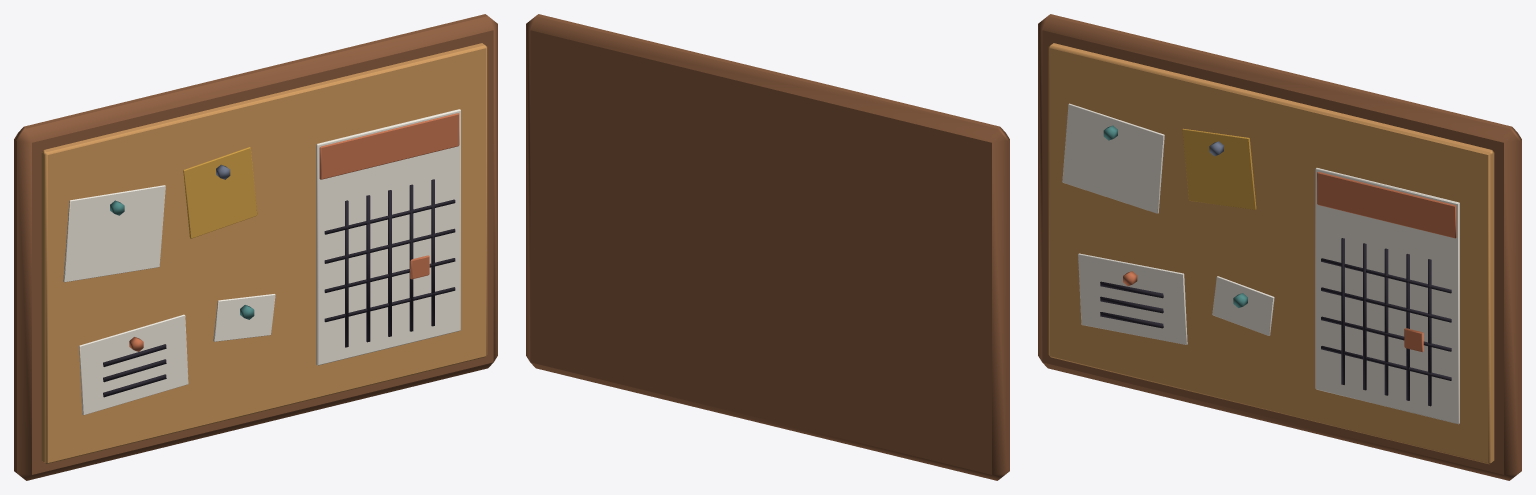
File: era_corkboard.glb
3 renders of one model, left to right at view 1: azimuth 30°, elevation 25°; view 2: azimuth 150°, elevation 25°; view 3: azimuth 330°, elevation 25°, orthographic.
Parts seen in each view (by area): view 1: era_corkboard; view 2: era_corkboard; view 3: era_corkboard.
Boxes of the visible parts, x1,y1,x2,y2 form: era_corkboard: (14,14,497,480); era_corkboard: (526,14,1009,480); era_corkboard: (1038,14,1521,480).
Size of the model in its own units: 1 by 0.7 by 0.088.
